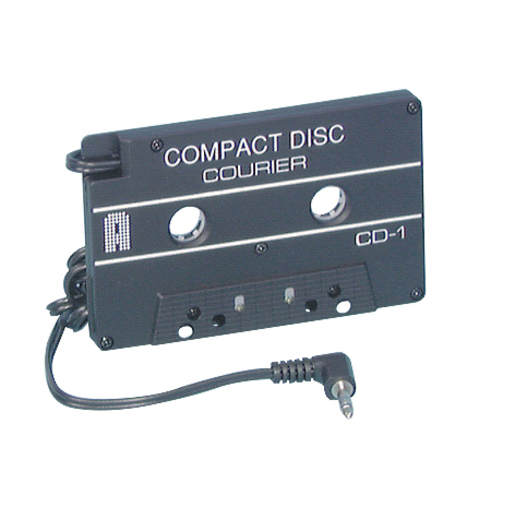Nonrec_Other: (43, 90, 443, 427)
